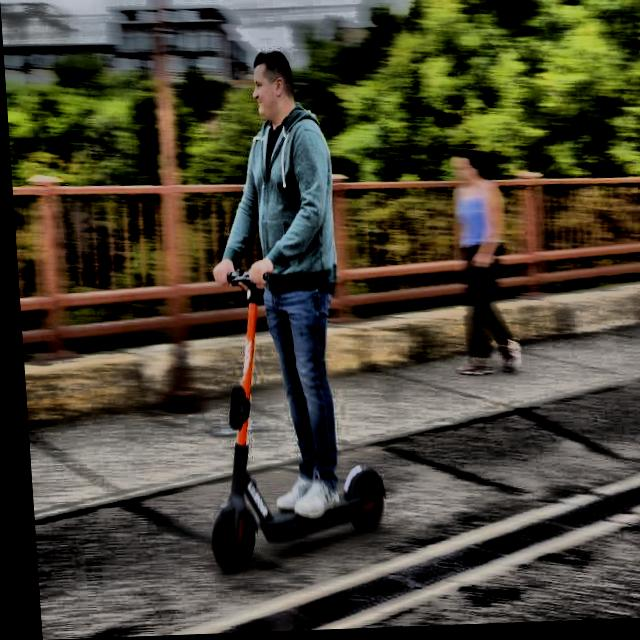bare_head: (247, 45, 313, 122)
human: (241, 43, 364, 524)
kickboard: (210, 462, 384, 575)
